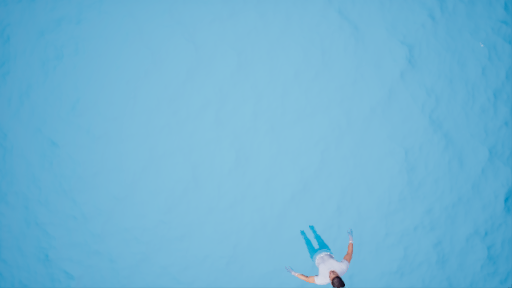person: (276, 220, 364, 285)
